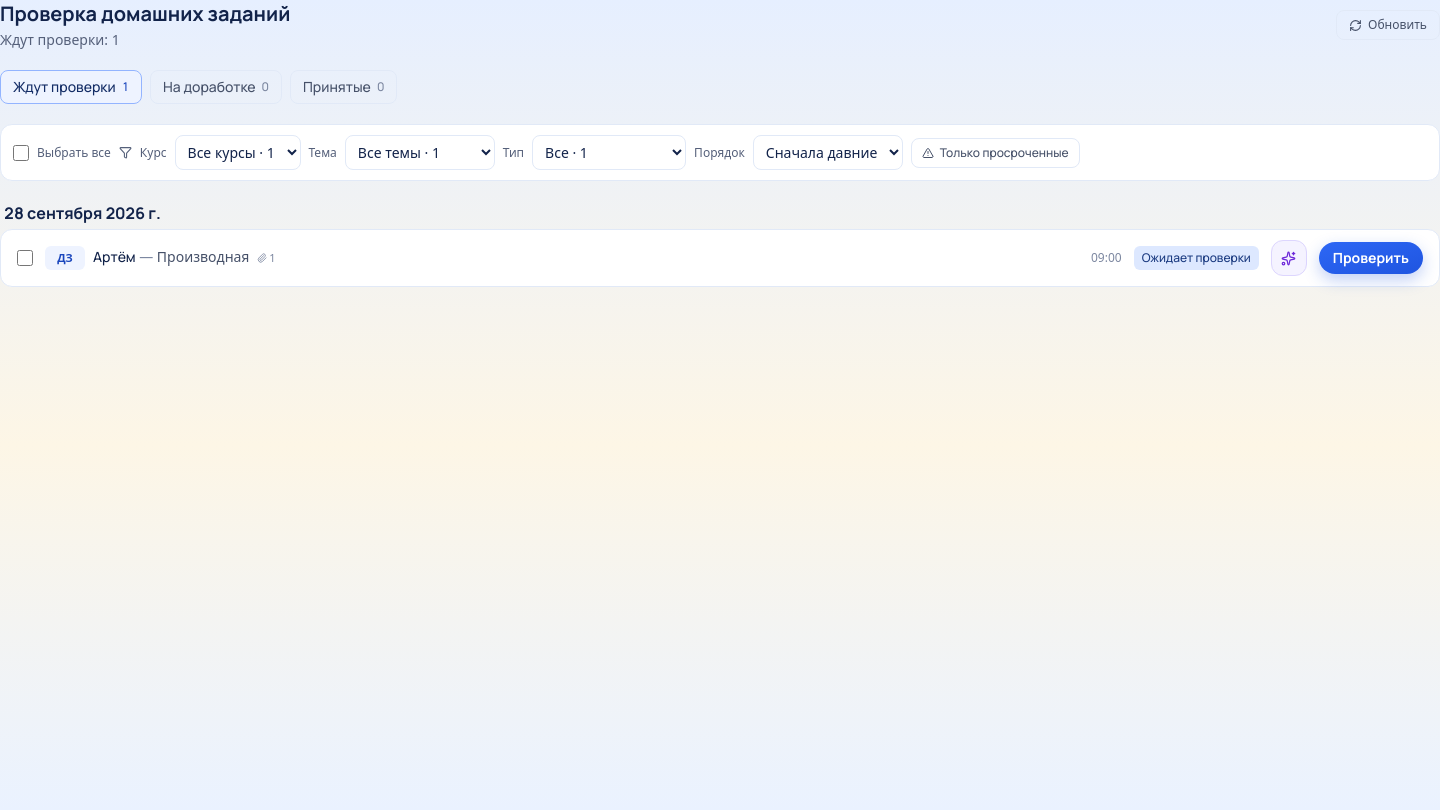
it: §252 — пометки ИИ уходят ученику при вердикте › вердикт по заданию поменяли — число и номера пересчитаны
The width and height of the screenshot is (1440, 810).
Click the text "Артём" at (114,256), box x1=93 y1=247 x2=136 y2=266
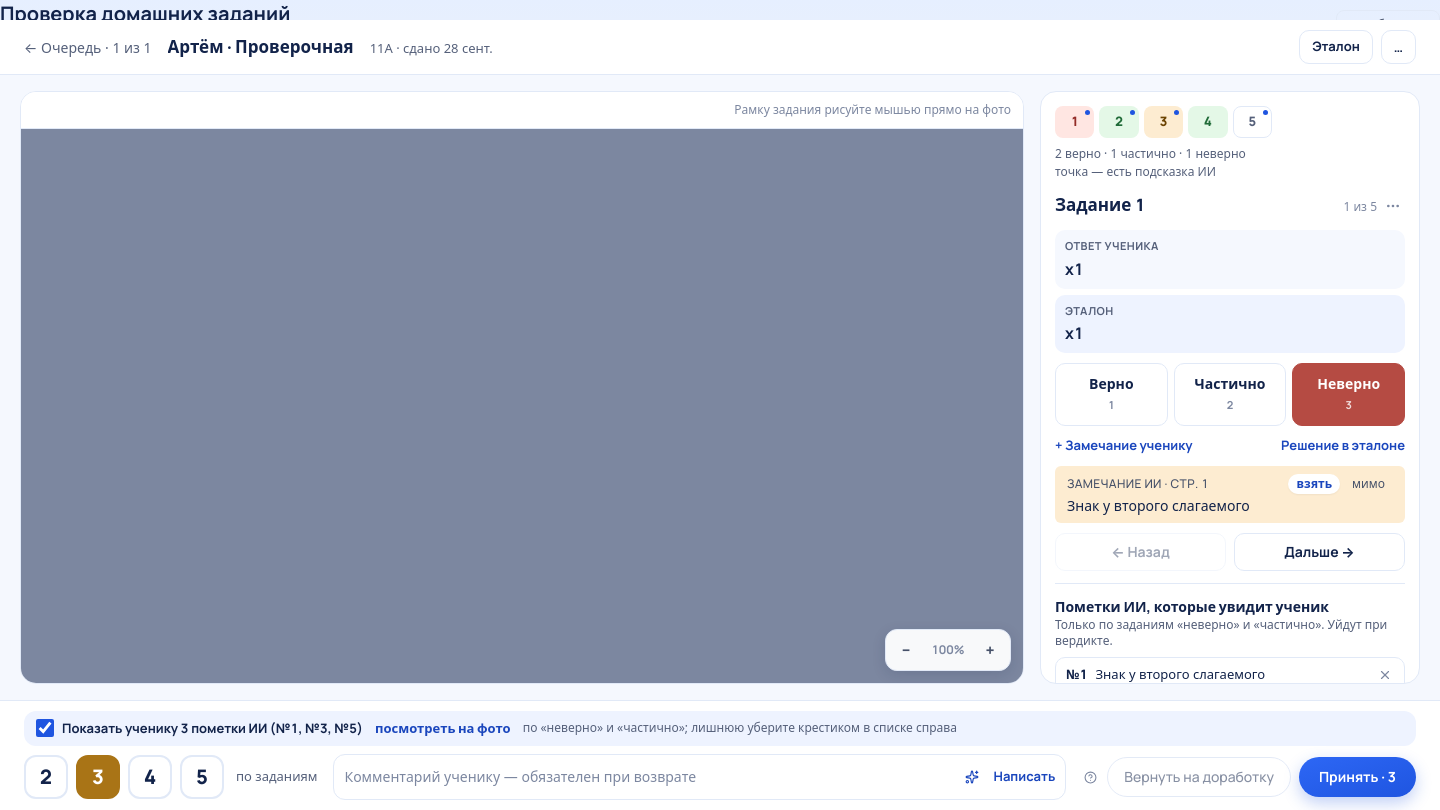
Click the button with test id "review-focus-cell" at (1119,122), box x1=1099 y1=106 x2=1139 y2=138
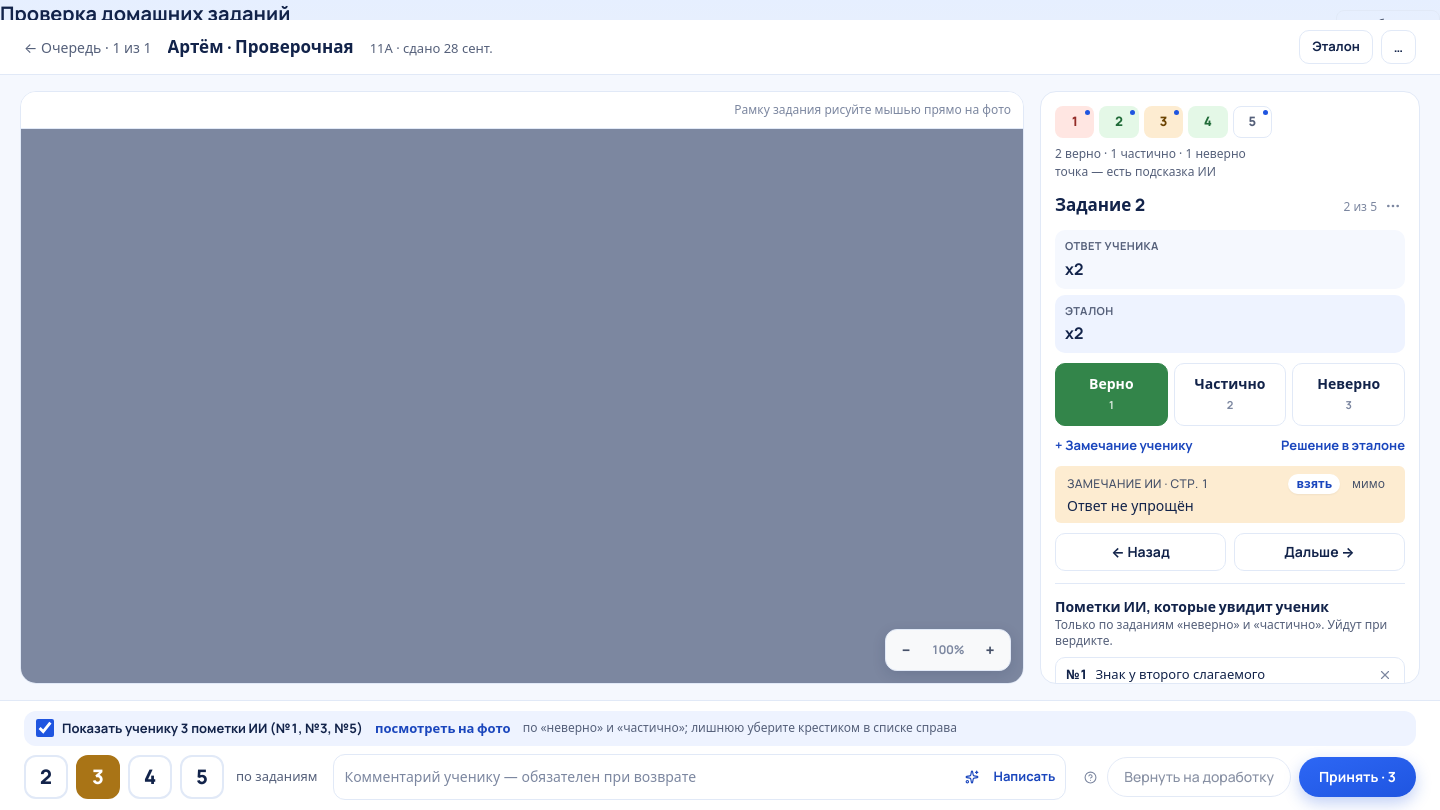
Click the button with test id "review-focus-verdict-wrong" at (1349,394), box x1=1292 y1=363 x2=1405 y2=426
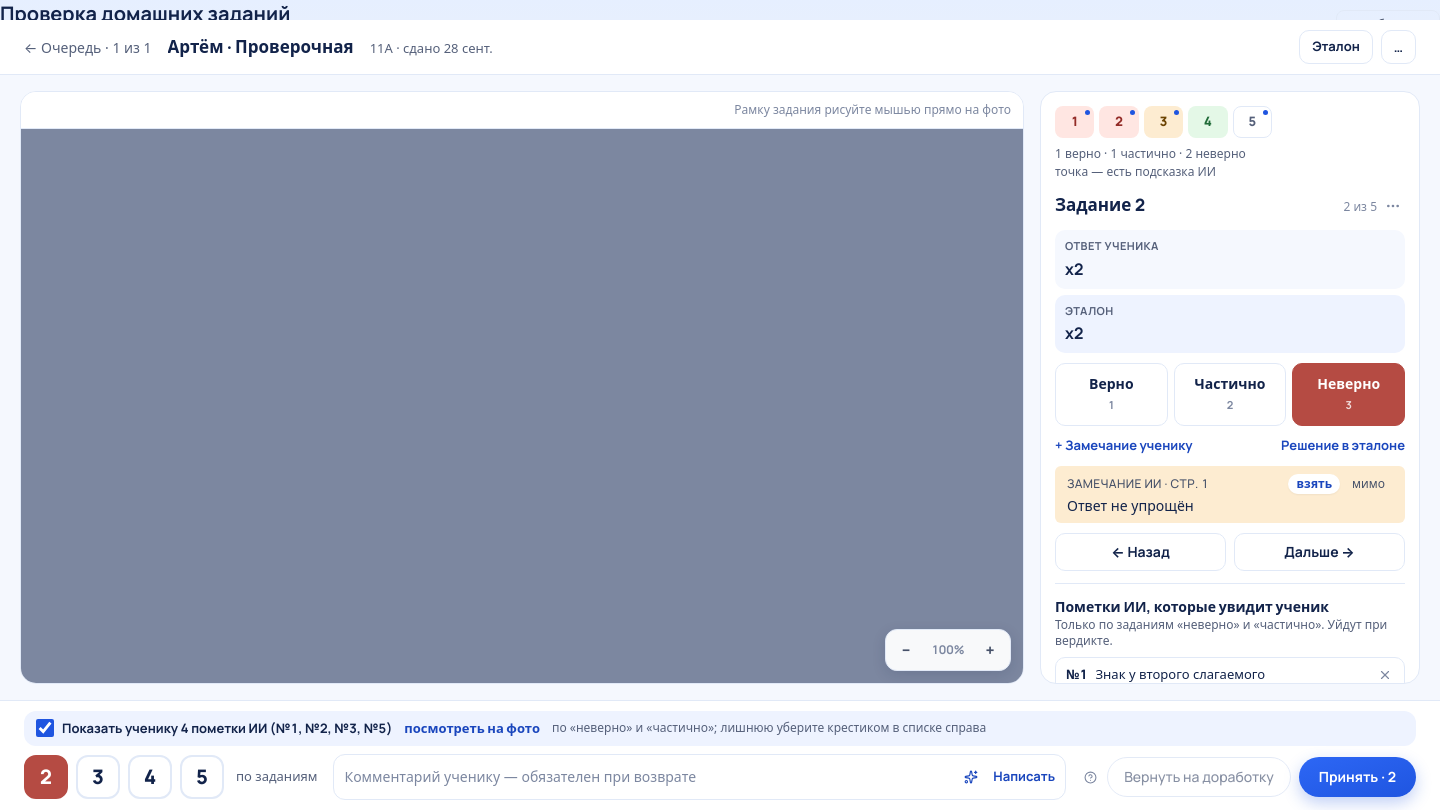
Result: the text with test id "ai-marks-label" reads "Показать ученику 4 пометки ИИ (№1, №2, №3, №5)" at x1=62 y1=718 x2=392 y2=736
Click the button with test id "review-focus-verdict-correct" at (1111,394), box x1=1055 y1=363 x2=1168 y2=426
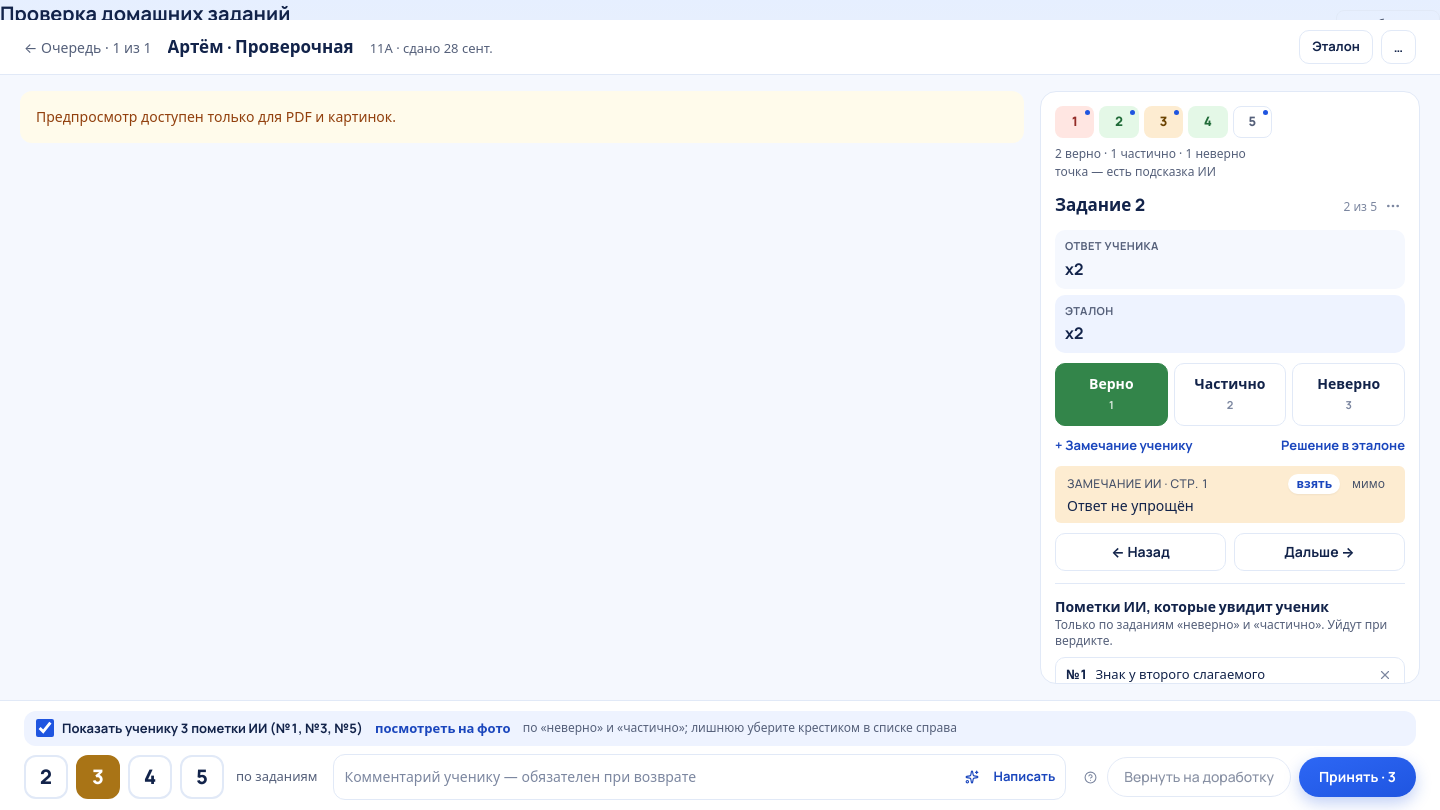
Result: the text with test id "ai-marks-label" reads "Показать ученику 3 пометки ИИ (№1, №3, №5)" at x1=62 y1=718 x2=363 y2=736
